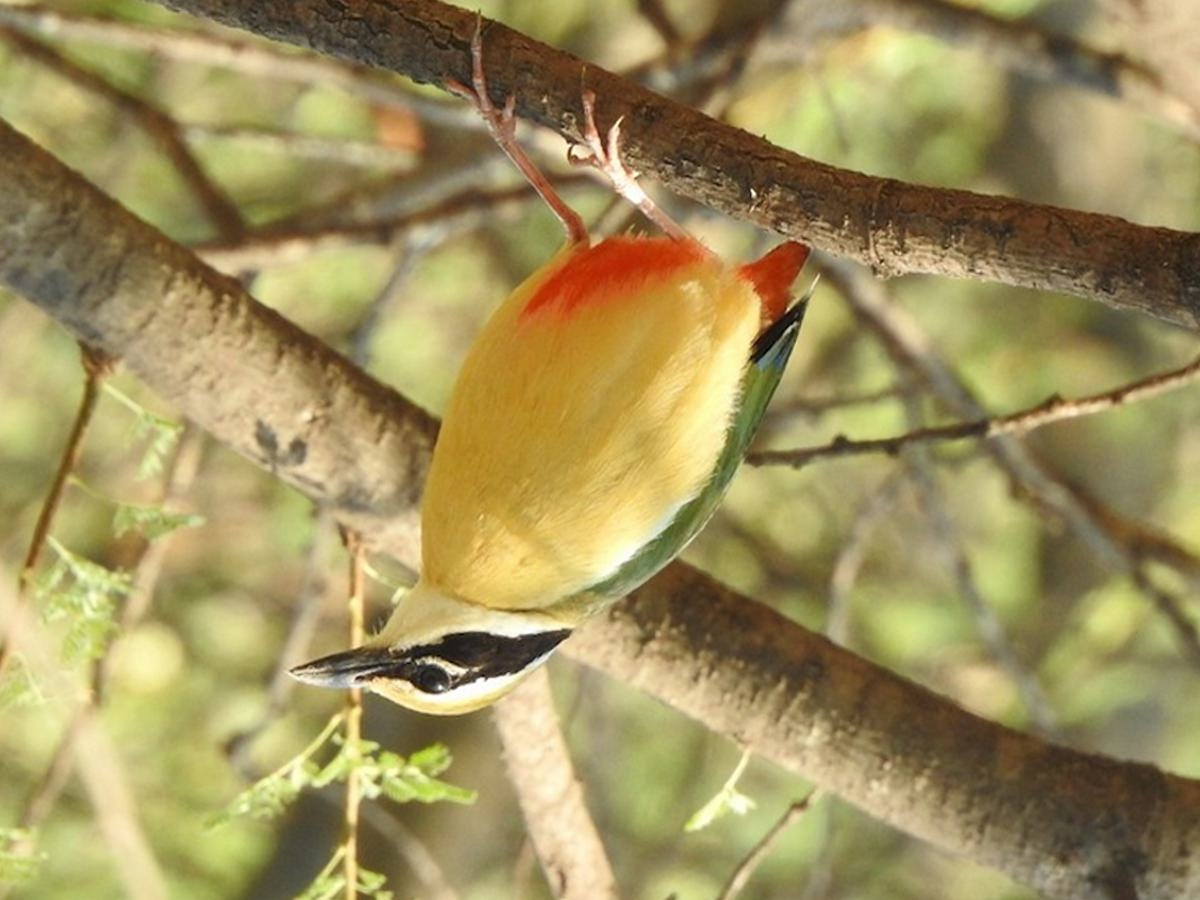pitta: (287, 106, 815, 741)
